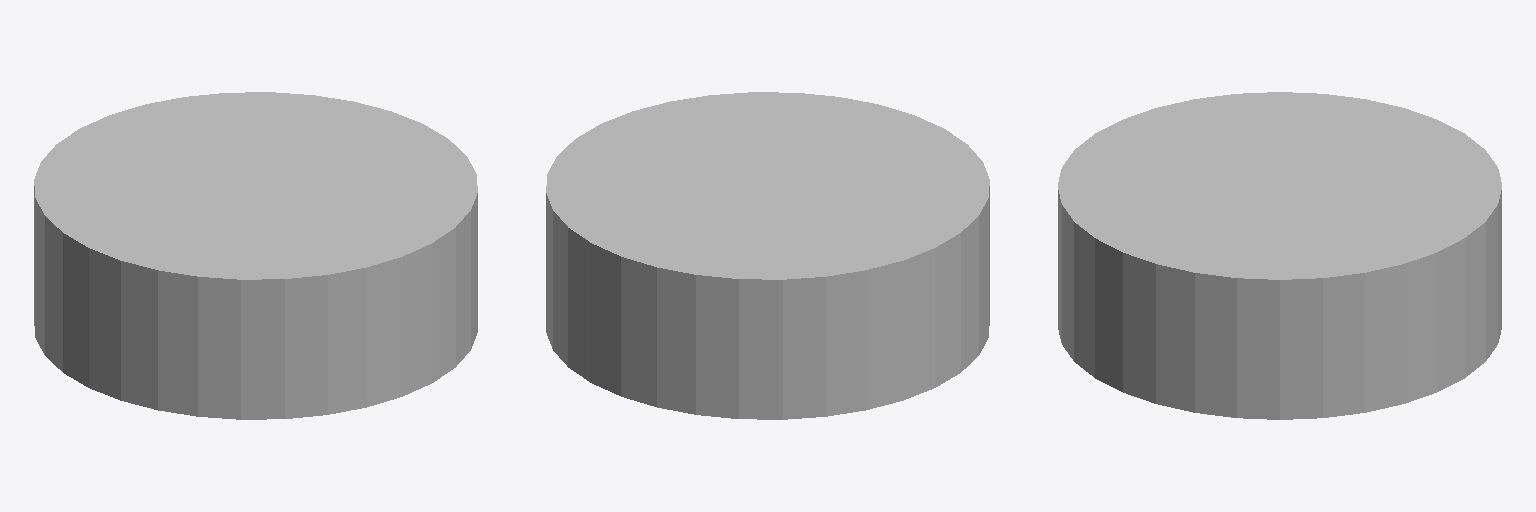
File: plupp.obj
The picture shows the model from 3 angles: view 1: azimuth 30°, elevation 25°; view 2: azimuth 150°, elevation 25°; view 3: azimuth 270°, elevation 25°; orthographic projection.
Parts seen in each view (by area): view 1: Cylinder; view 2: Cylinder; view 3: Cylinder.
Part boxes in pixels (left/top/right/bottom): Cylinder: left=34, top=92, right=477, bottom=419; Cylinder: left=546, top=92, right=989, bottom=419; Cylinder: left=1058, top=92, right=1501, bottom=419.
Size of the model in its own units: 1.22 by 0.4241 by 1.22.